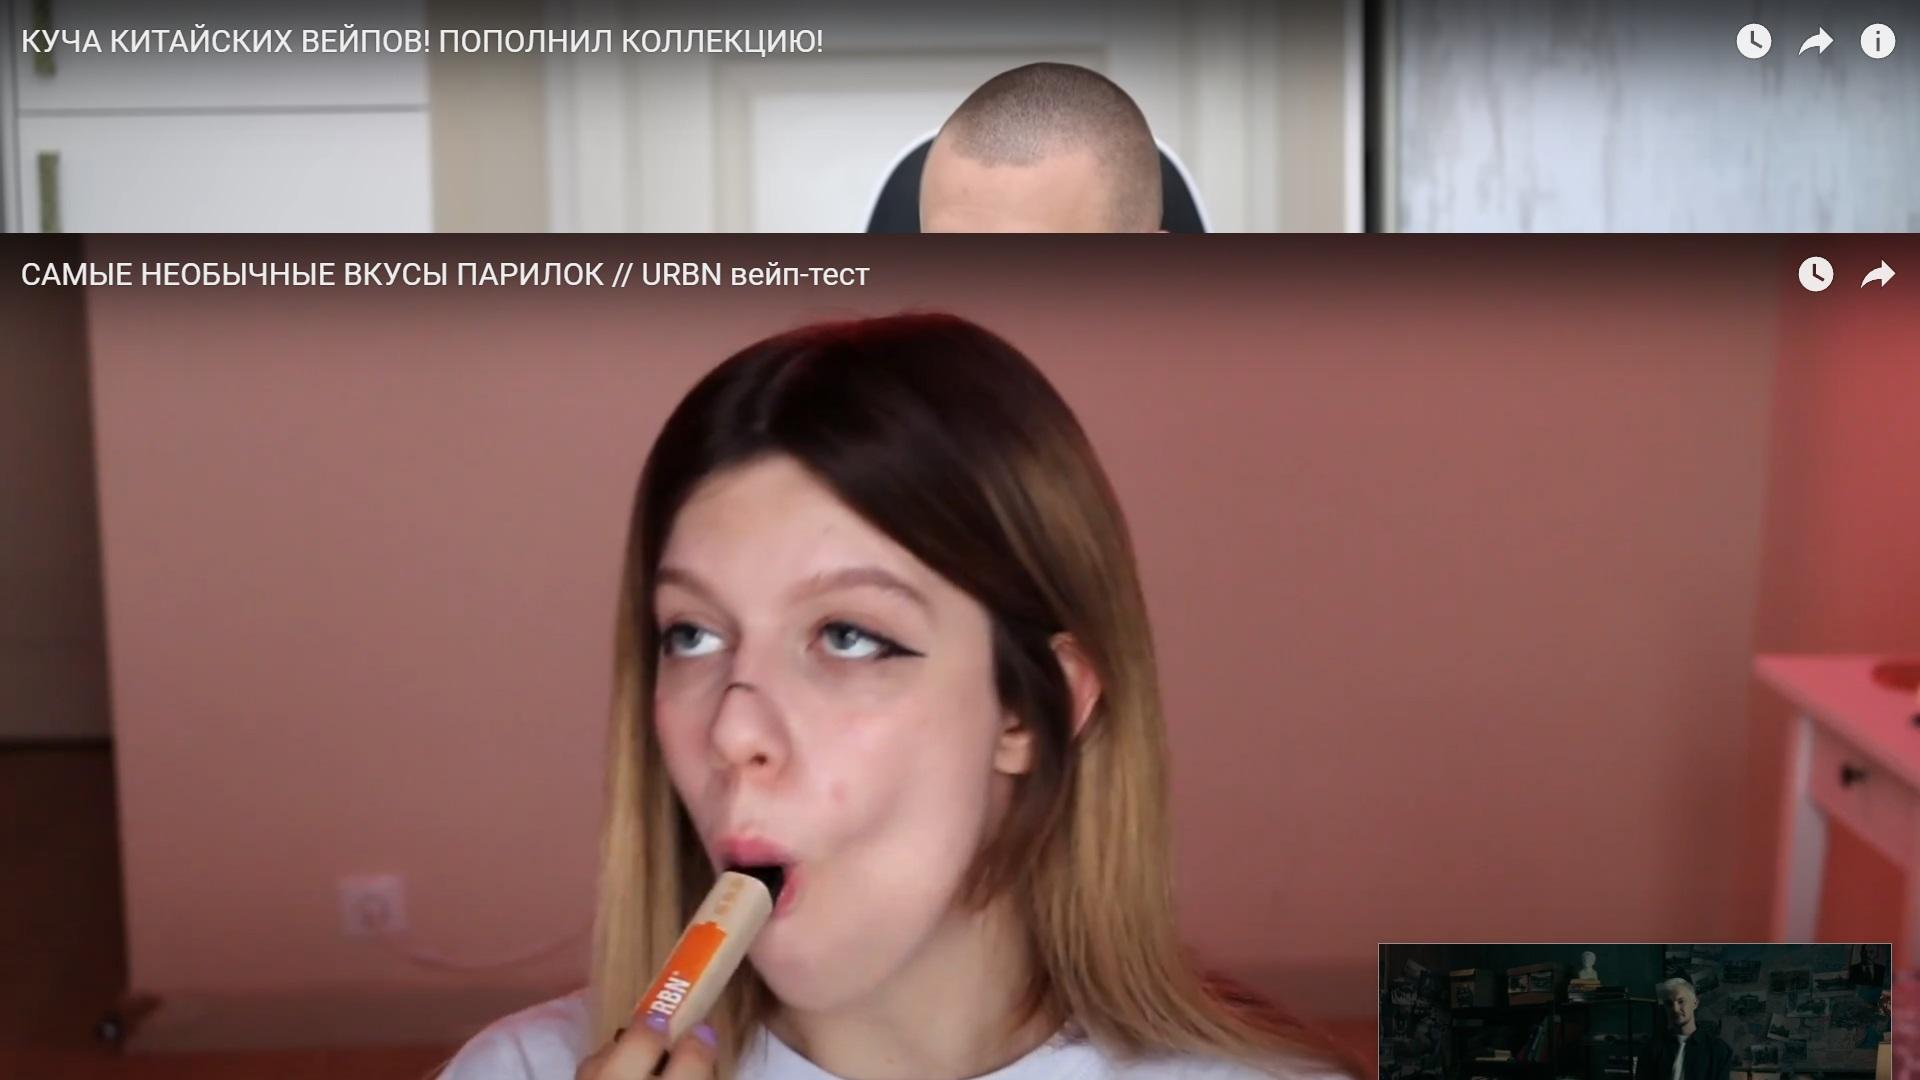Vape: (633, 864, 781, 1048)
